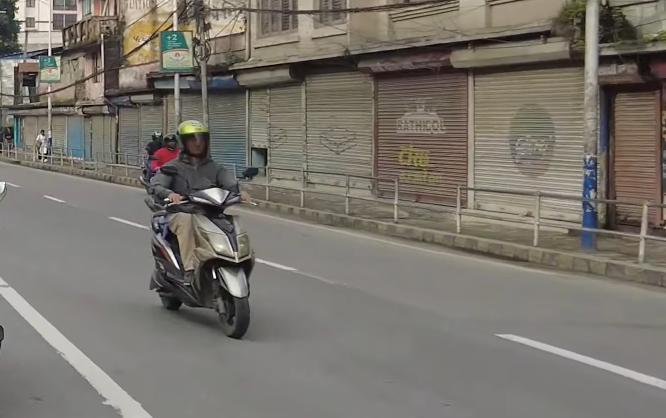scooter: (140, 162, 274, 345)
